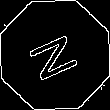N_NE: (23, 26, 87, 84)
